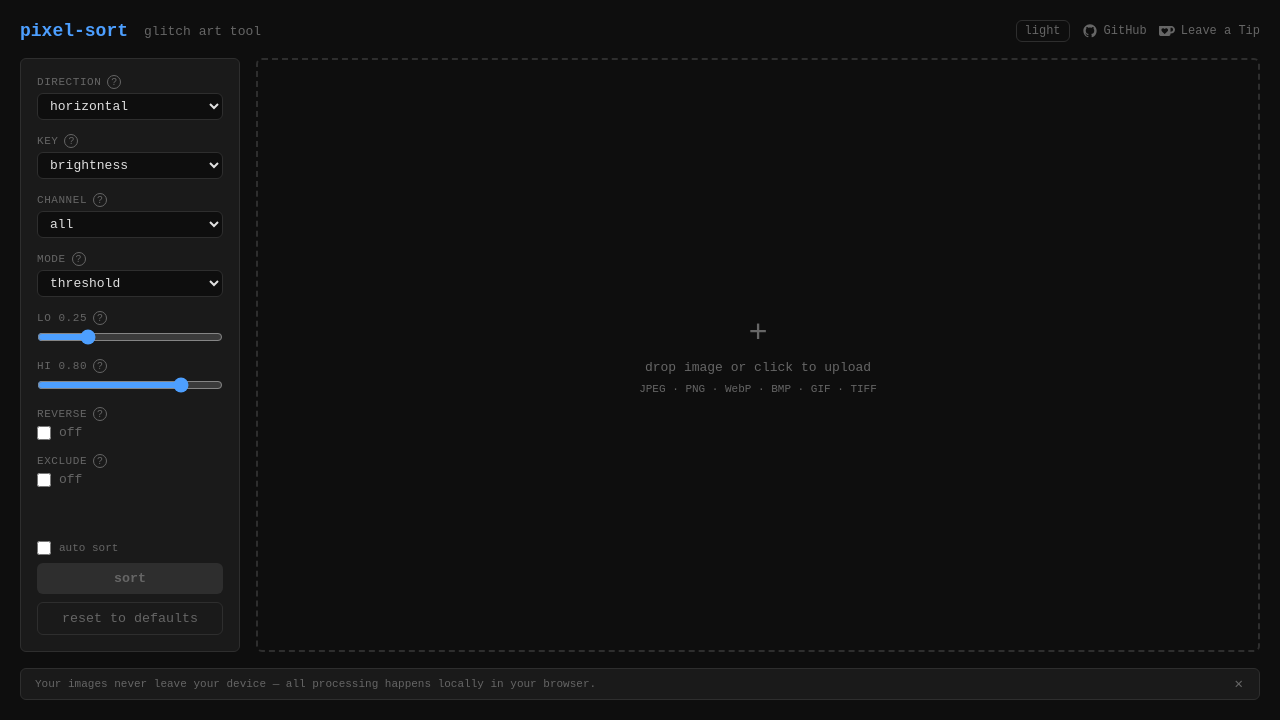
it: PixelSorter — privacy banner › hides the banner after clicking dismiss
Expected: the text "Your images never leave your device" is shown, [35,678,596,690]
Click the button named "dismiss".
click(1239, 684)  # box [1233,677,1245,691]
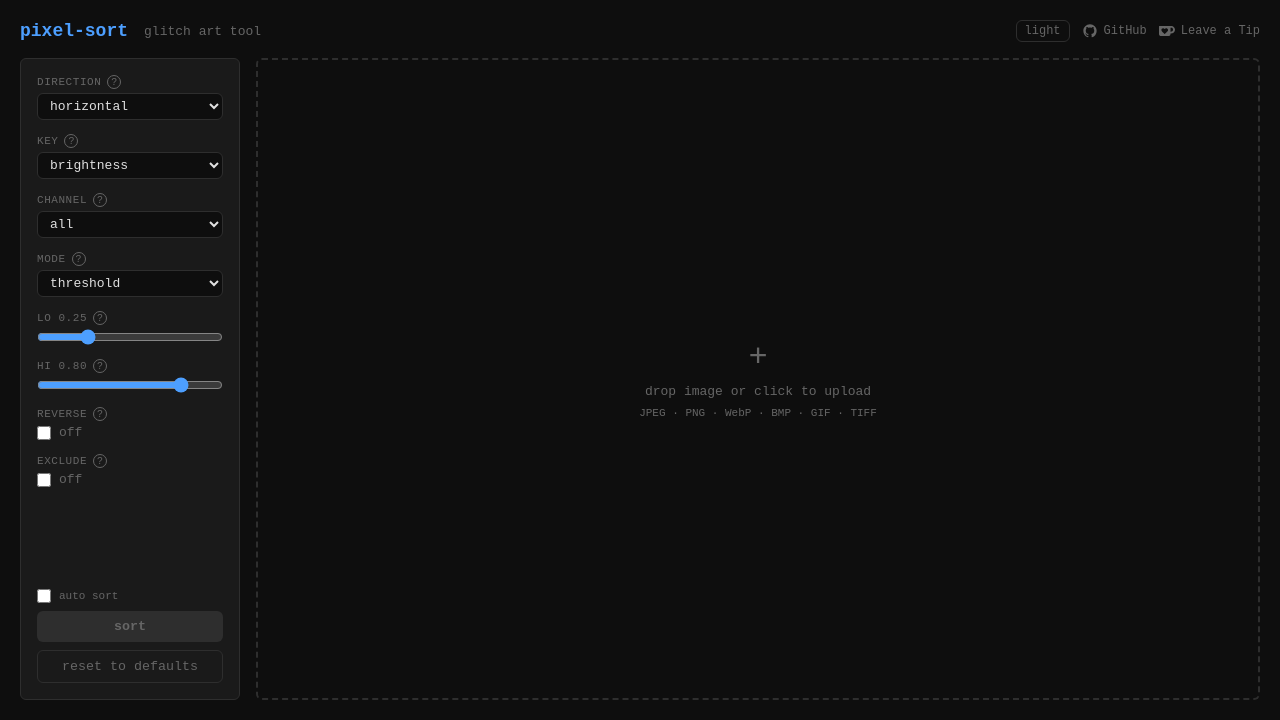
Now the text "Your images never leave your device" is gone
